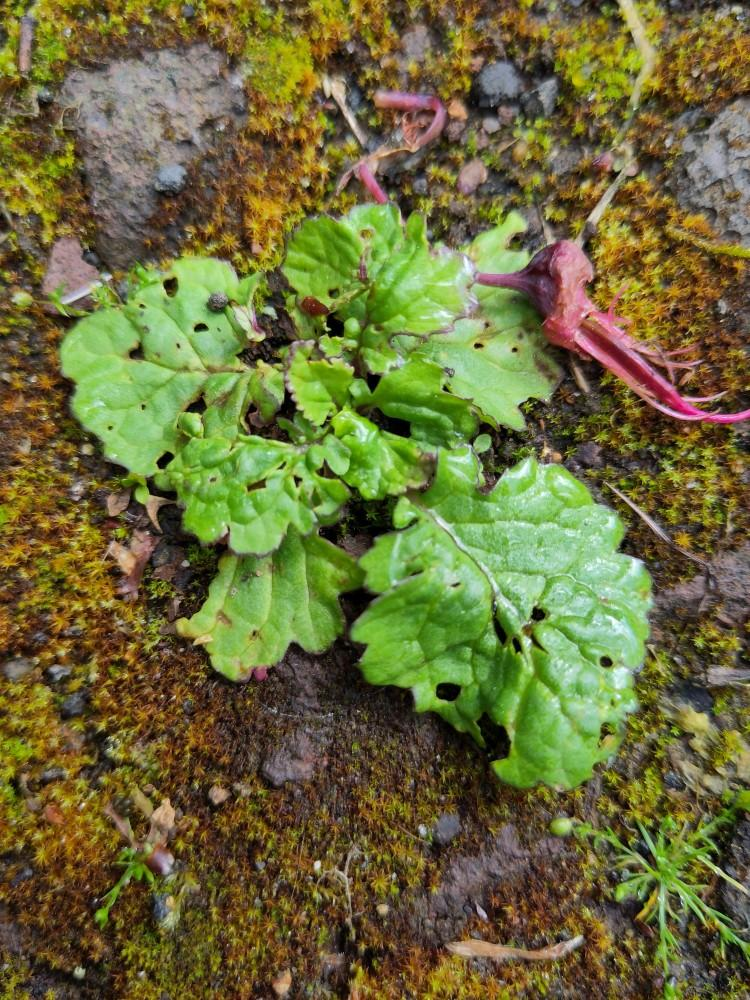Jacobaea vulgaris: (49, 183, 669, 810)
